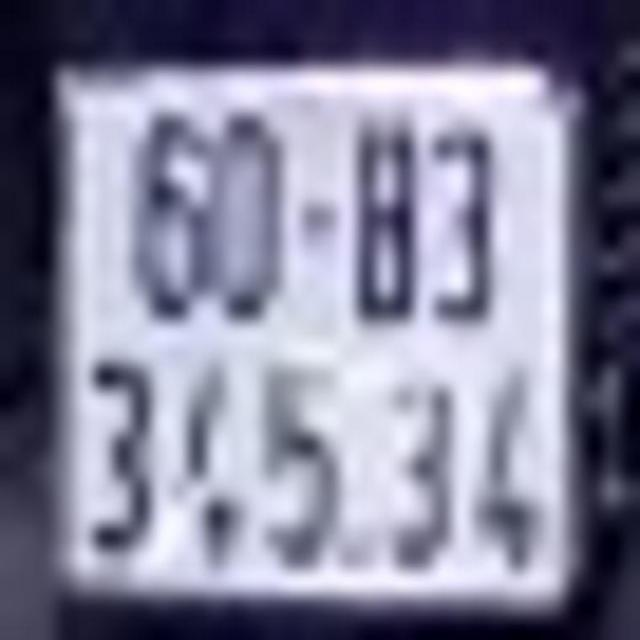0: (209, 98, 283, 321)
3: (388, 359, 463, 578), (424, 108, 496, 327), (85, 351, 158, 566)
4: (477, 353, 538, 585)
5: (261, 359, 340, 576)
6: (134, 93, 206, 324)
B: (348, 106, 421, 329)
